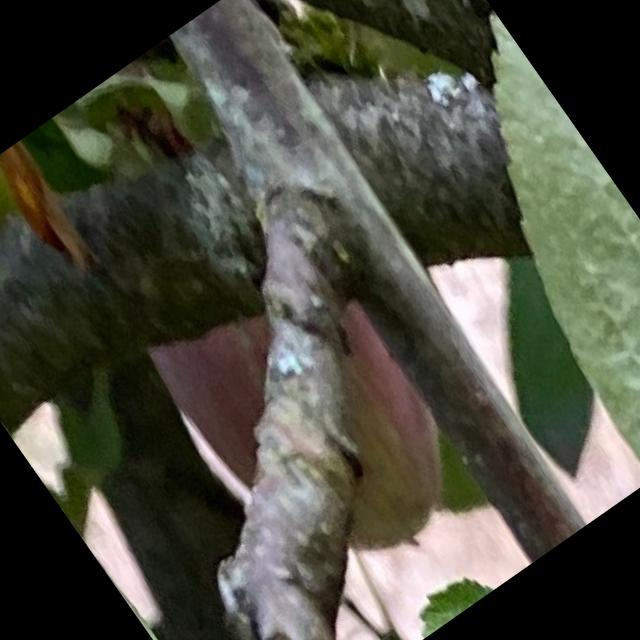Apples: (142, 236, 486, 605)
